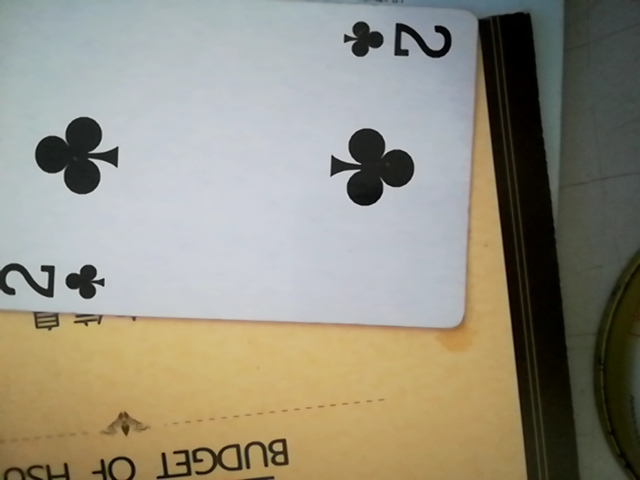mh 2: (0, 0, 479, 325)
